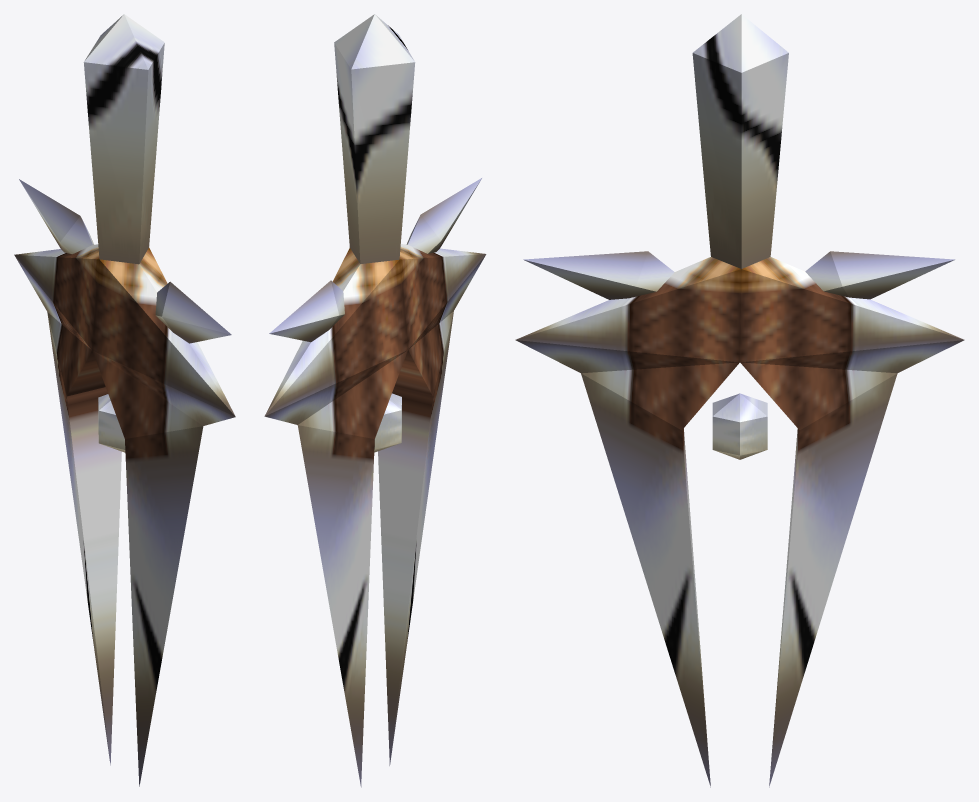
File: twinblade04.obj
The picture shows the model from 3 angles, left to right: view 1: azimuth 30°, elevation 25°; view 2: azimuth 150°, elevation 25°; view 3: azimuth 270°, elevation 25°; orthographic projection.
Visible parts, largest first — view 1: cwdhsw04l; view 2: cwdhsw04l; view 3: cwdhsw04l.
Boxes of the visible parts, x1,y1,x2,y2 form: cwdhsw04l: (14, 14, 235, 786); cwdhsw04l: (264, 14, 486, 787); cwdhsw04l: (515, 14, 964, 787).
Bounding box in the file's own units: 0.0775 × 0.6975 × 0.3675.
